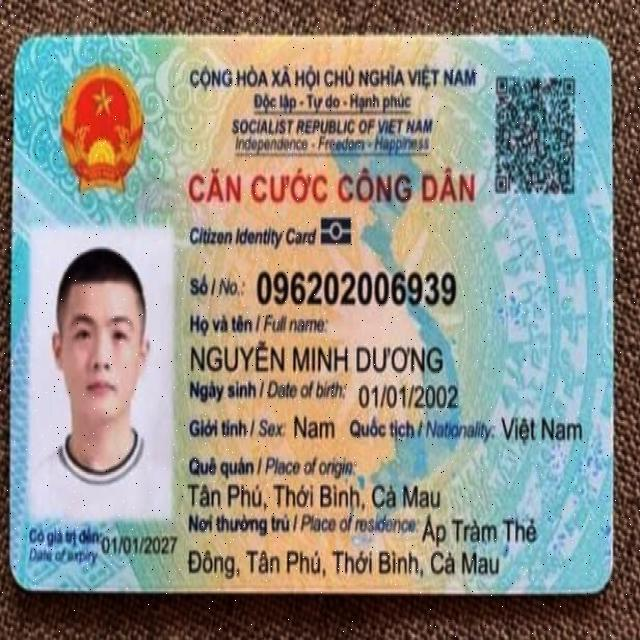current_place: (183, 544, 502, 583), (418, 512, 543, 552)
dob: (356, 377, 462, 414)
expire_date: (100, 527, 180, 560)
gender: (290, 409, 338, 445)
id: (254, 266, 458, 311)
name: (188, 336, 445, 377)
nationality: (499, 410, 586, 449)
origin_place: (185, 476, 444, 513)
